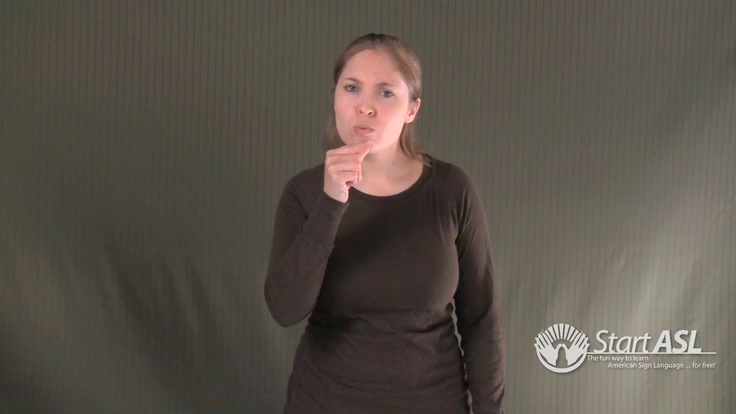who: (300, 121, 423, 199)
